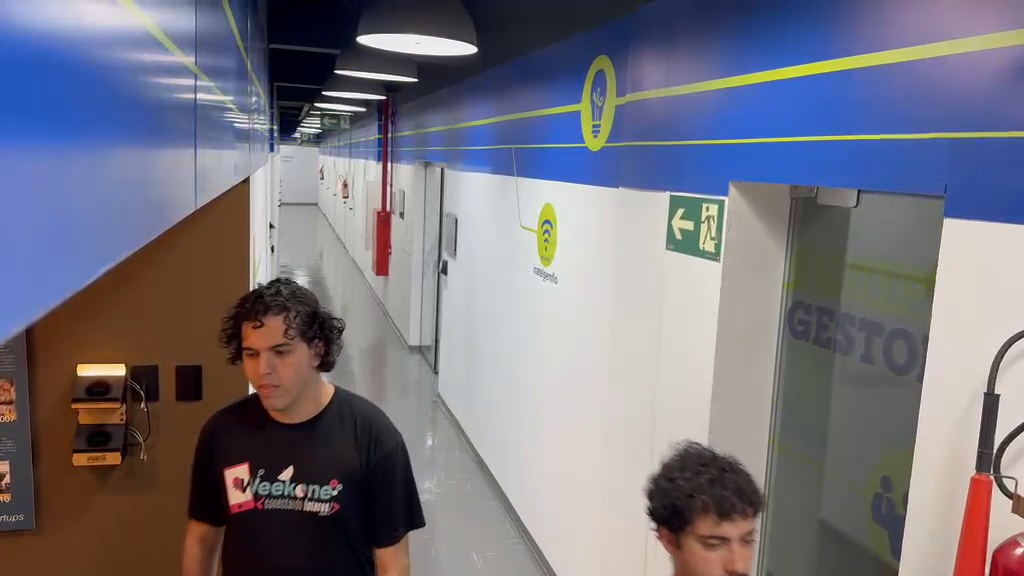person: (181, 277, 426, 572), (644, 441, 764, 574)
